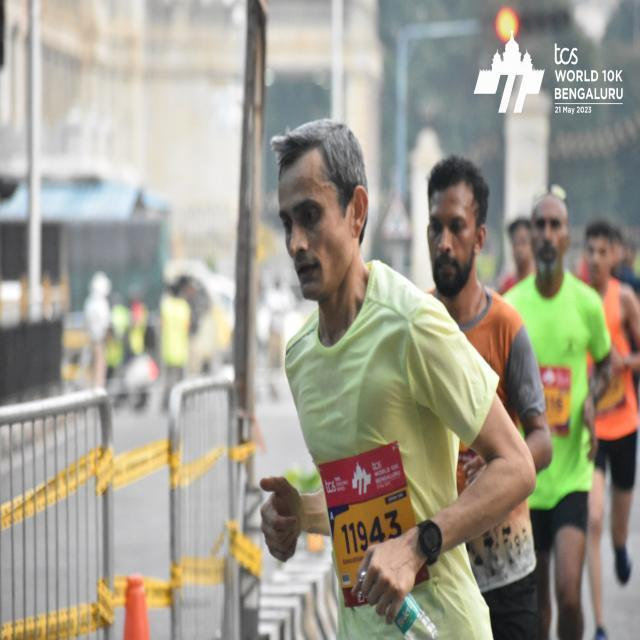dorsal: (314, 458, 428, 594)
